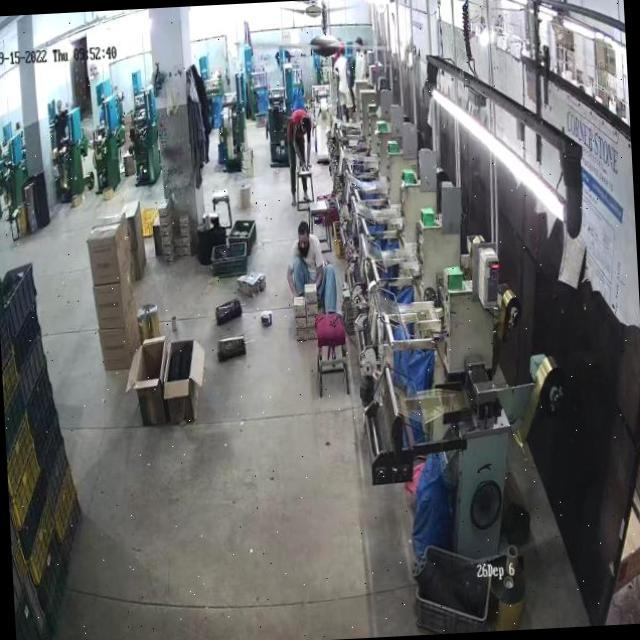person: (285, 218, 338, 318), (287, 107, 315, 208), (334, 38, 356, 124), (351, 38, 368, 80)
